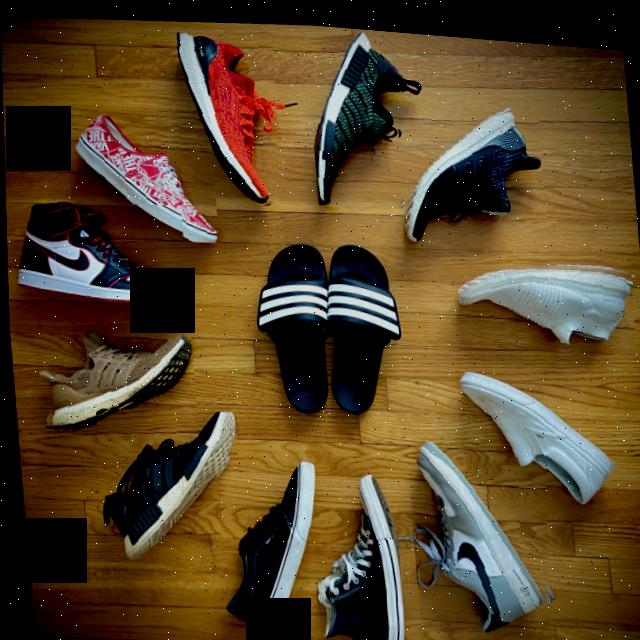shoe: (403, 423, 558, 633), (395, 85, 549, 250), (93, 399, 244, 565), (456, 351, 617, 506), (12, 191, 188, 320), (69, 96, 218, 246), (212, 447, 325, 637), (33, 316, 198, 444), (173, 21, 285, 208), (304, 19, 412, 207), (454, 241, 636, 343), (307, 460, 407, 640)
